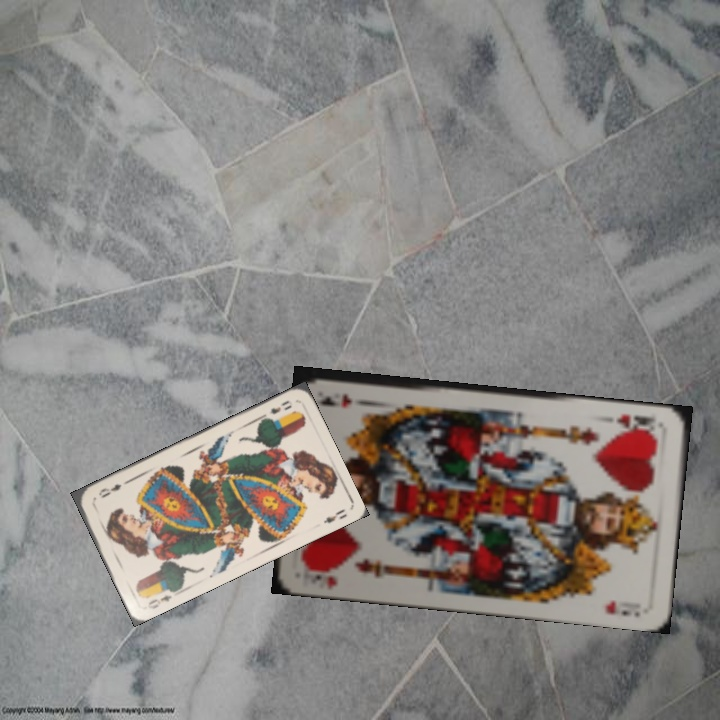EO: (259, 396, 294, 422), (143, 591, 174, 612)
HK: (612, 410, 658, 437), (299, 564, 339, 591)
